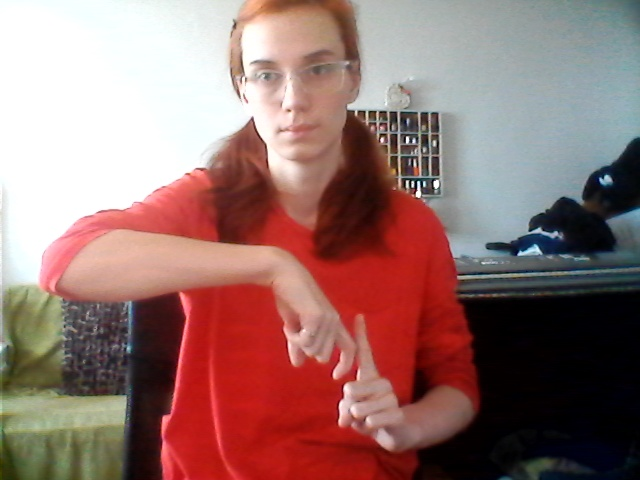k: (253, 236, 408, 461)
